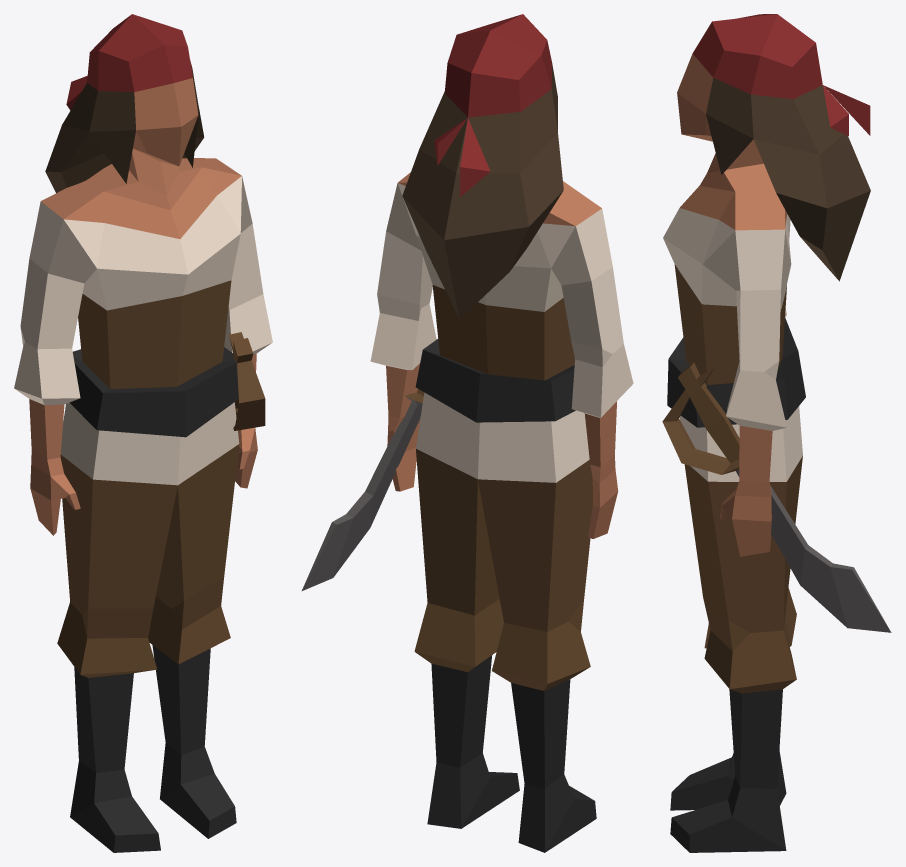
Rendered from people_woman-pirate-scarf.fbx.
3 views of the same model, side by side, from view 1: azimuth 30°, elevation 25°; view 2: azimuth 150°, elevation 25°; view 3: azimuth 270°, elevation 25° (orthographic).
Parts seen in each view (by area): view 1: people_woman_pirate_scarf; view 2: people_woman_pirate_scarf; view 3: people_woman_pirate_scarf.
Part boxes in pixels (bbox=[...]): people_woman_pirate_scarf: bbox=[14, 14, 272, 852]; people_woman_pirate_scarf: bbox=[302, 14, 633, 852]; people_woman_pirate_scarf: bbox=[662, 14, 891, 852].
Size of the model in its own units: 64.9 by 200 by 51.38.
